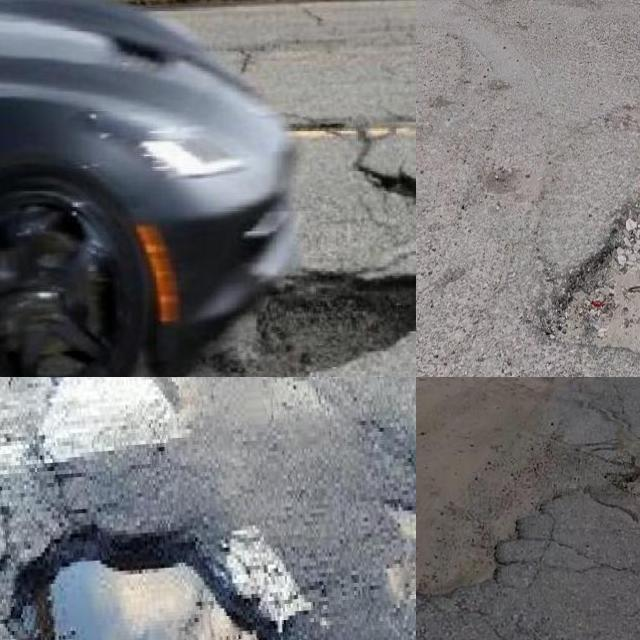Pothole: (8, 528, 293, 640), (212, 275, 416, 377), (531, 197, 640, 358), (256, 271, 416, 377), (416, 511, 520, 602), (357, 165, 416, 202), (607, 463, 640, 500)
